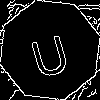U: (25, 25, 73, 80)
